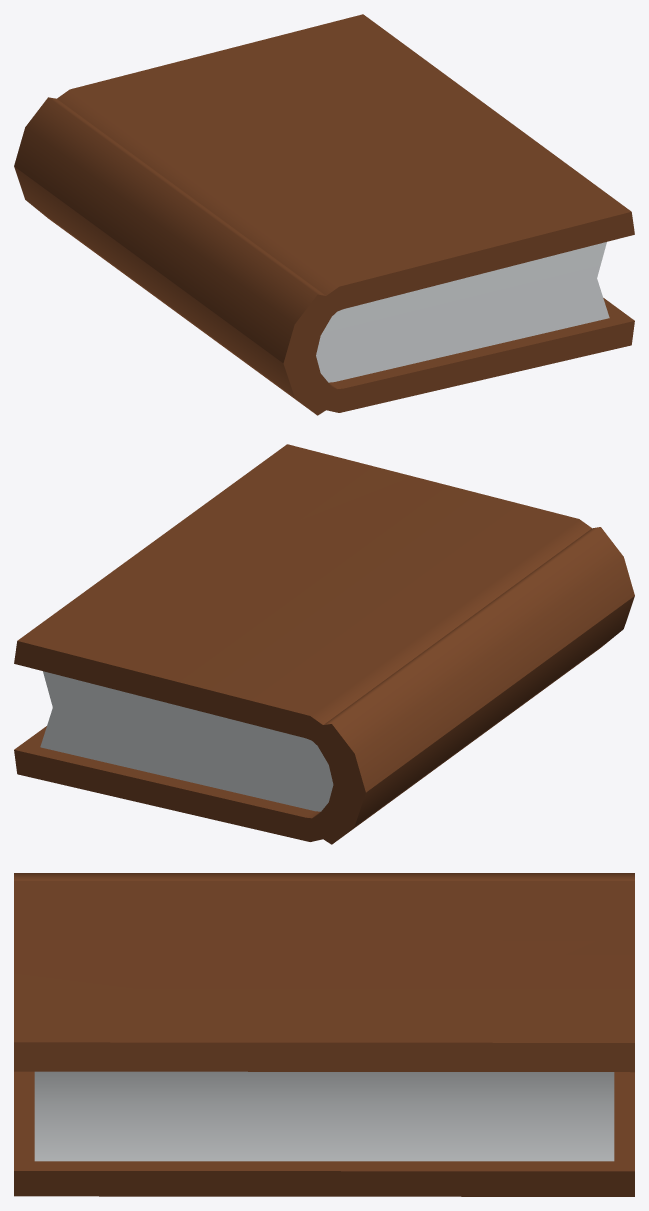
The model's file is Book_C.fbx.
3 views of the same model, one above another, from view 1: azimuth 30°, elevation 25°; view 2: azimuth 150°, elevation 25°; view 3: azimuth 270°, elevation 25° (orthographic). The views are drawn at different scales.
Visible parts, largest first — view 1: Book_C; view 2: Book_C; view 3: Book_C.
Boxes of the visible parts, bbox=[...] form: Book_C: bbox=[14, 14, 634, 415]; Book_C: bbox=[14, 444, 634, 844]; Book_C: bbox=[14, 873, 634, 1196].
Bounding box in the file's own units: 24.02 × 8.71 × 31.81.
